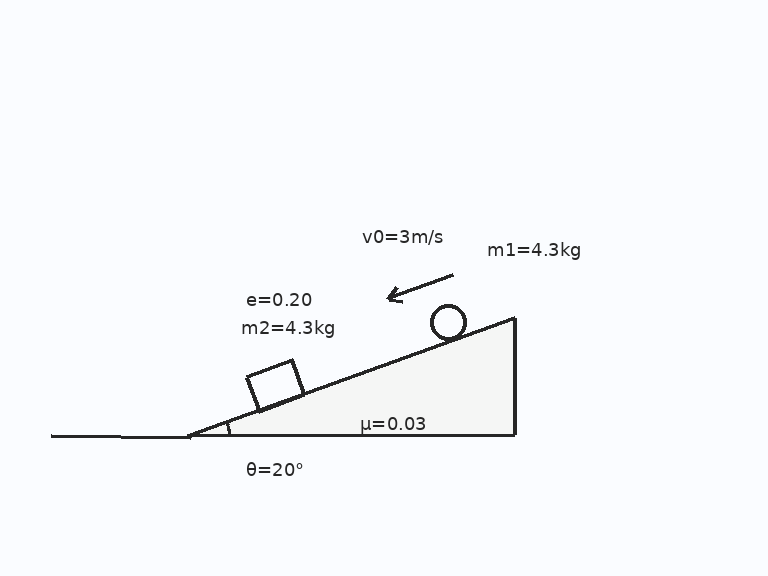ball: (428, 302, 468, 342)
block: (245, 358, 307, 413)
ramp: (187, 316, 516, 438)
